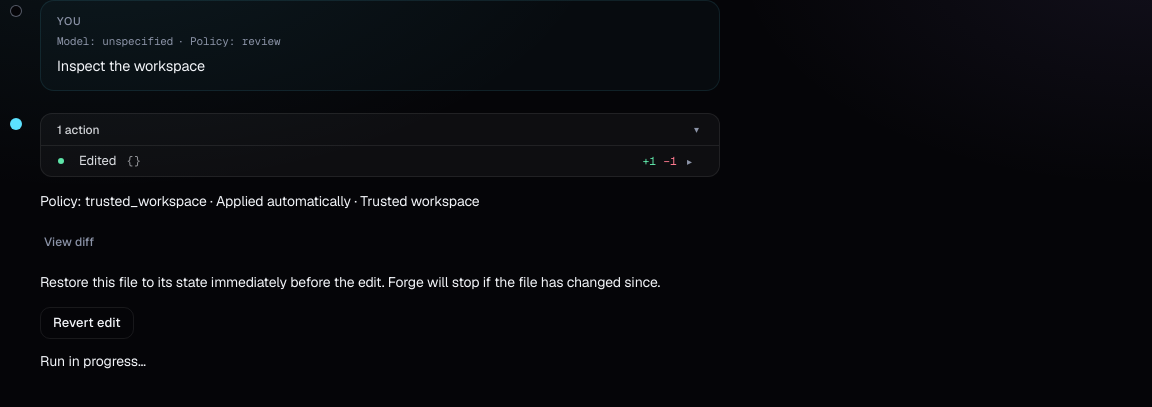
Test: guarded recovery conflict is handled as user-safe copy and retains View diff
The image size is (1152, 407).
Click the button "Revert edit". click: (87, 323)
box: [40,307,134,339]
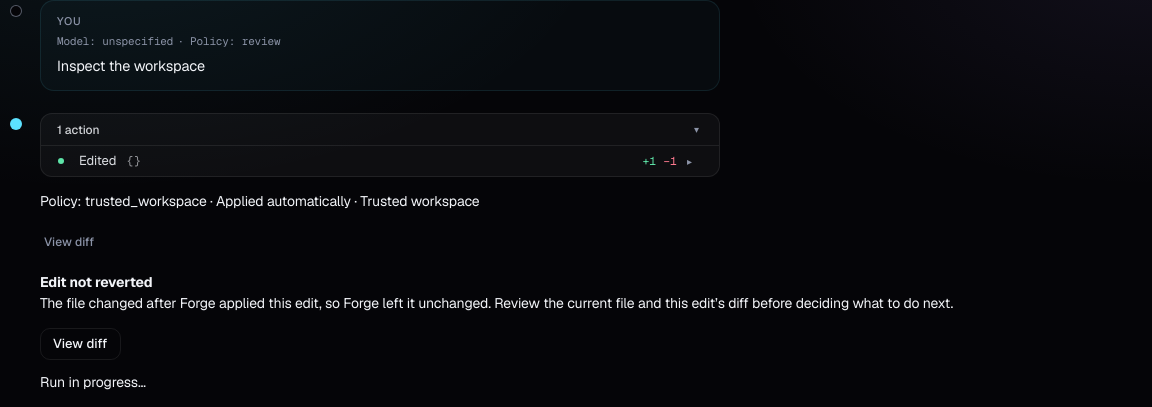
expect the text "Edit not reverted" is shown: met, box [40,273,152,291]
expect the text "file changed after Forge applied this edit" is shown: met, box [40,294,953,312]
